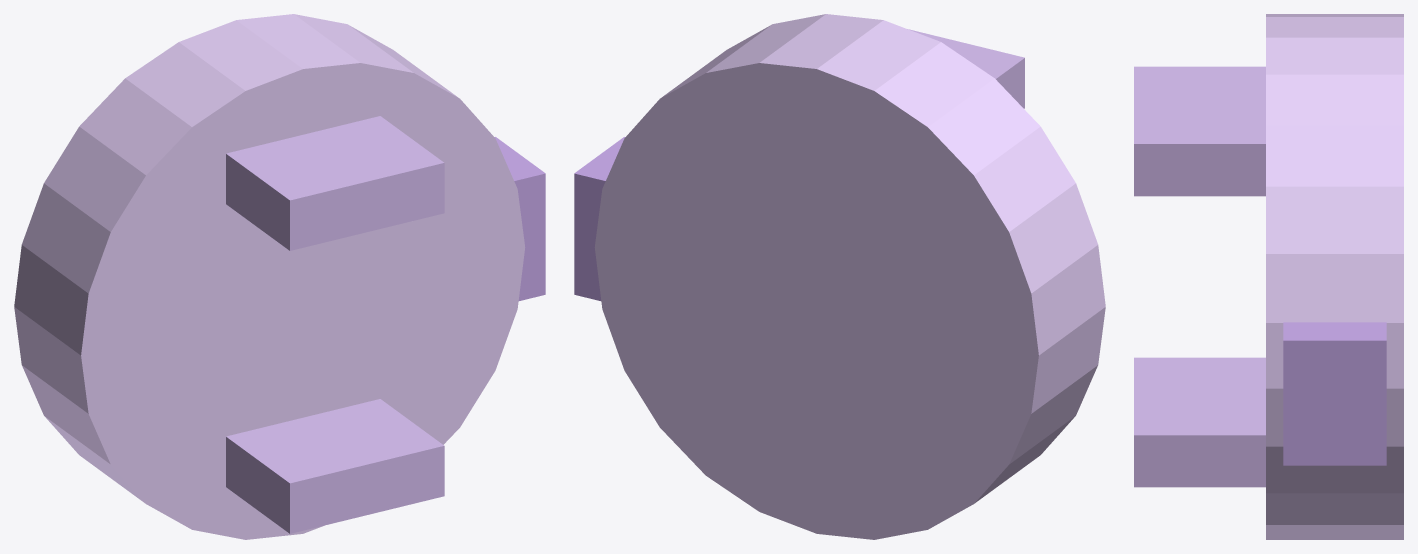
3 views of the same model, side by side, from view 1: azimuth 30°, elevation 25°; view 2: azimuth 150°, elevation 25°; view 3: azimuth 270°, elevation 25° (orthographic). The views are drawn at different scales.
Parts seen in each view (by area): view 1: model_4_NOSIMPLIFY; view 2: model_4_NOSIMPLIFY; view 3: model_4_NOSIMPLIFY.
Boxes of the visible parts, x1,y1,x2,y2 form: model_4_NOSIMPLIFY: [14, 14, 545, 539]; model_4_NOSIMPLIFY: [574, 14, 1105, 539]; model_4_NOSIMPLIFY: [1134, 14, 1403, 539].
Bounding box in the file's own units: 0.245 × 0.23 × 0.1175.
